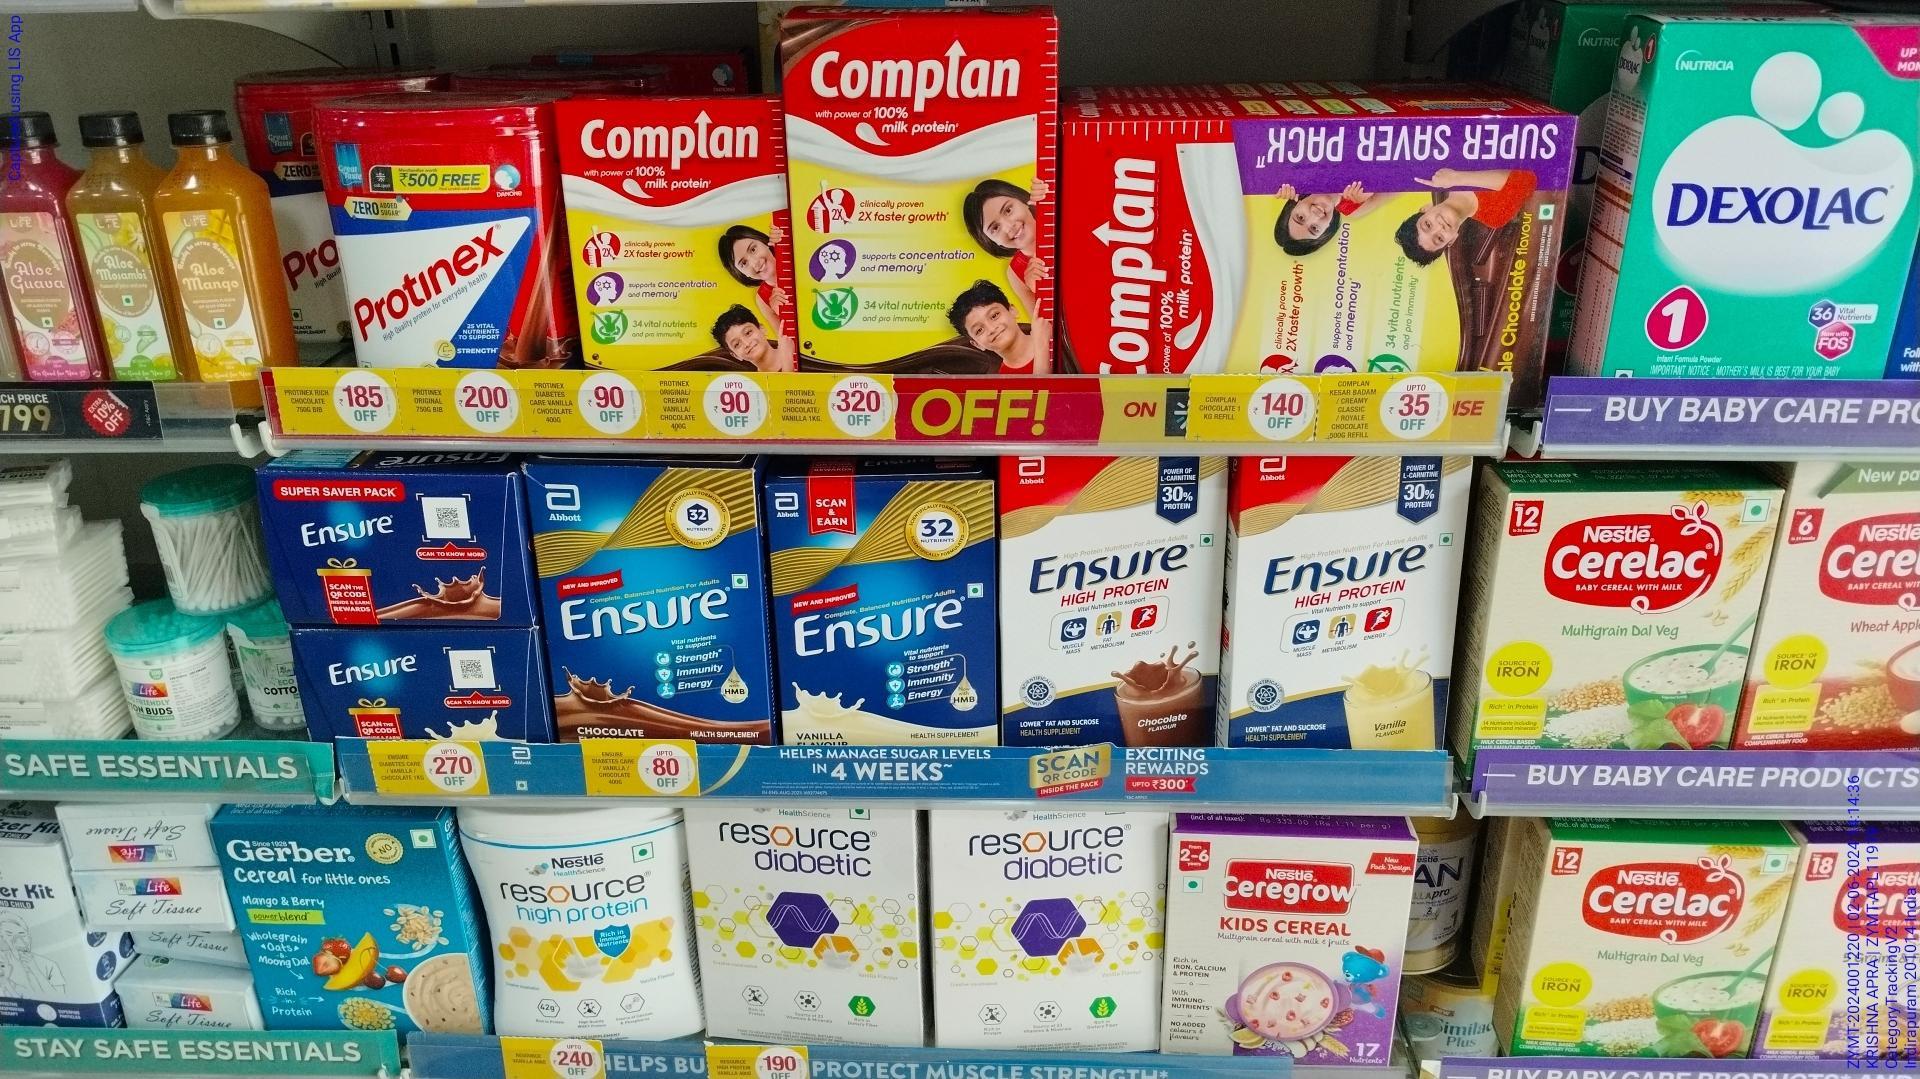PROTINEX_CHOCOLATE_400_G_JAR: (338, 112, 543, 359)
